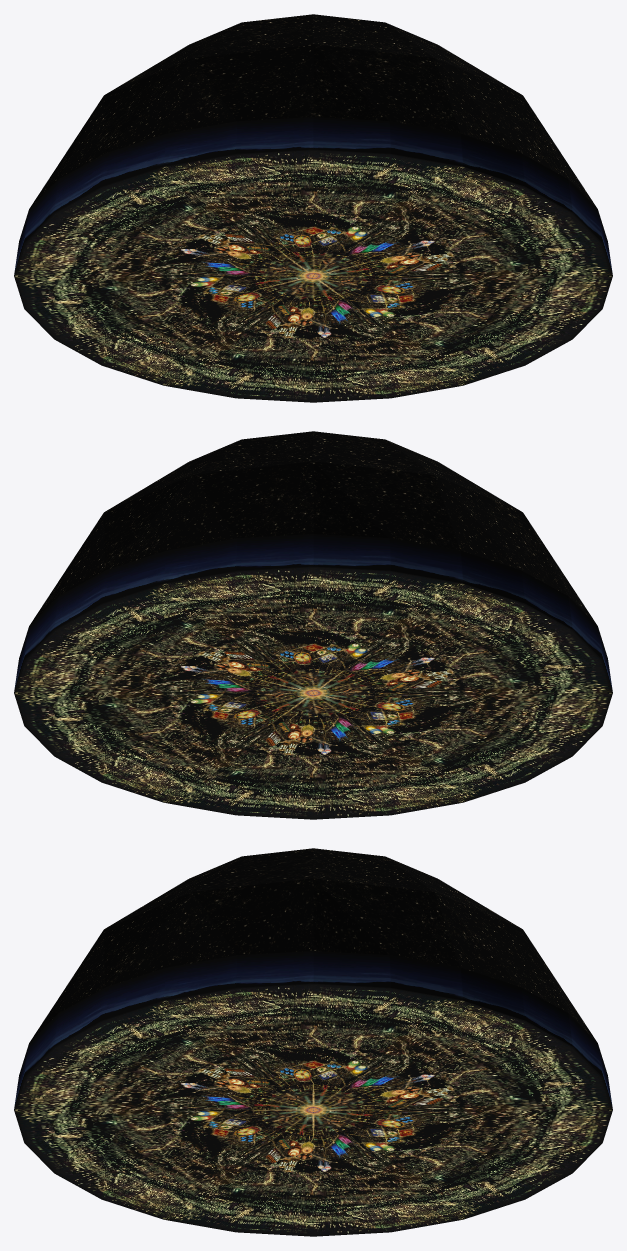
File: Skybox.obj
3 views of the same model, one above another, from view 1: azimuth 30°, elevation 25°; view 2: azimuth 150°, elevation 25°; view 3: azimuth 270°, elevation 25° (orthographic).
Visible parts, largest first — view 1: Object_2; view 2: Object_2; view 3: Object_2.
Part boxes in pixels (x1,y1,x2,y2): Object_2: (14,14,612,402); Object_2: (14,431,612,819); Object_2: (14,848,612,1236).
Size of the model in its own units: 150000 by 64660 by 150000.
